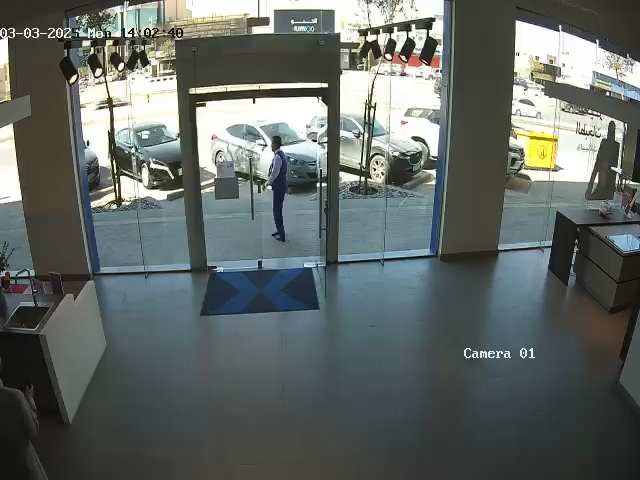employee: (264, 134, 289, 243)
